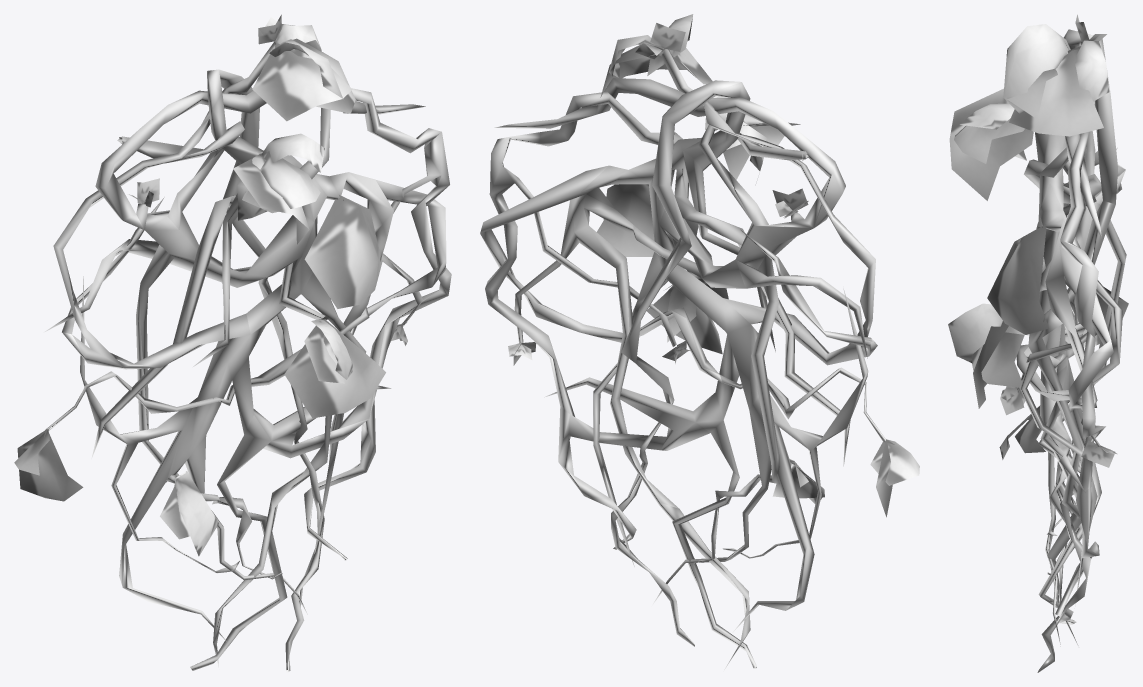
Rendered from Nature_Shield_LOD4.fbx.
3 renders of one model, left to right at view 1: azimuth 30°, elevation 25°; view 2: azimuth 150°, elevation 25°; view 3: azimuth 270°, elevation 25°, orthographic. The views are drawn at different scales.
Parts seen in each view (by area): view 1: Nature_Shield_LOD4; view 2: Nature_Shield_LOD4; view 3: Nature_Shield_LOD4.
Boxes of the visible parts, x1=… form: Nature_Shield_LOD4: x1=14, y1=14, x2=451, y2=672; Nature_Shield_LOD4: x1=480, y1=14, x2=919, y2=669; Nature_Shield_LOD4: x1=948, y1=14, x2=1128, y2=672.
Size of the model in its own units: 3.03 by 4.26 by 1.06.
